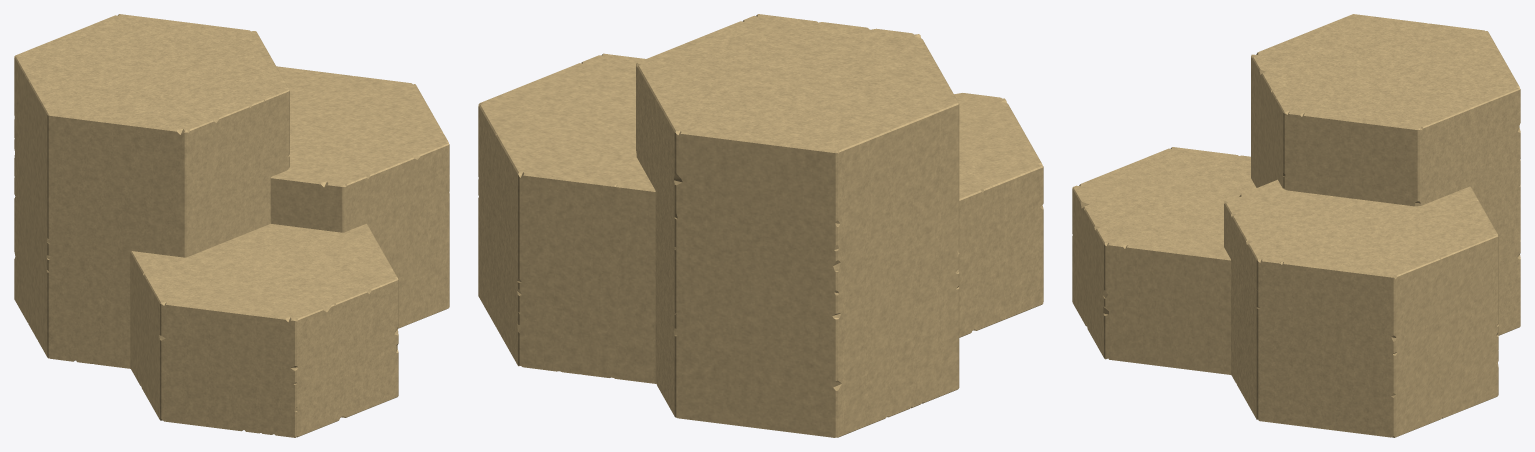
The model's file is OrirockConcentration_IrregularEdges.fbx.
The picture shows the model from 3 angles, left to right: view 1: azimuth 30°, elevation 25°; view 2: azimuth 150°, elevation 25°; view 3: azimuth 270°, elevation 25°; orthographic projection. The views are drawn at different scales.
Visible parts, largest first — view 1: 提纯源岩_左后_宽顶短壁, 提纯源岩_前方_宽扁断块, 提纯源岩_右后_斜切与下阶; view 2: 提纯源岩_左后_宽顶短壁, 提纯源岩_右后_斜切与下阶, 提纯源岩_前方_宽扁断块; view 3: 提纯源岩_右后_斜切与下阶, 提纯源岩_左后_宽顶短壁, 提纯源岩_前方_宽扁断块.
Part boxes in pixels (x1,y1,x2,y2): 提纯源岩_左后_宽顶短壁: (14,14,289,368); 提纯源岩_前方_宽扁断块: (130,223,398,437); 提纯源岩_右后_斜切与下阶: (270,66,449,328); 提纯源岩_左后_宽顶短壁: (636,14,959,437); 提纯源岩_右后_斜切与下阶: (478,53,656,383); 提纯源岩_前方_宽扁断块: (954,93,1043,337); 提纯源岩_右后_斜切与下阶: (1224,179,1498,437); 提纯源岩_左后_宽顶短壁: (1251,14,1520,341); 提纯源岩_前方_宽扁断块: (1072,147,1280,374).
Bounding box in the file's own units: 162 × 97.18 × 165.
